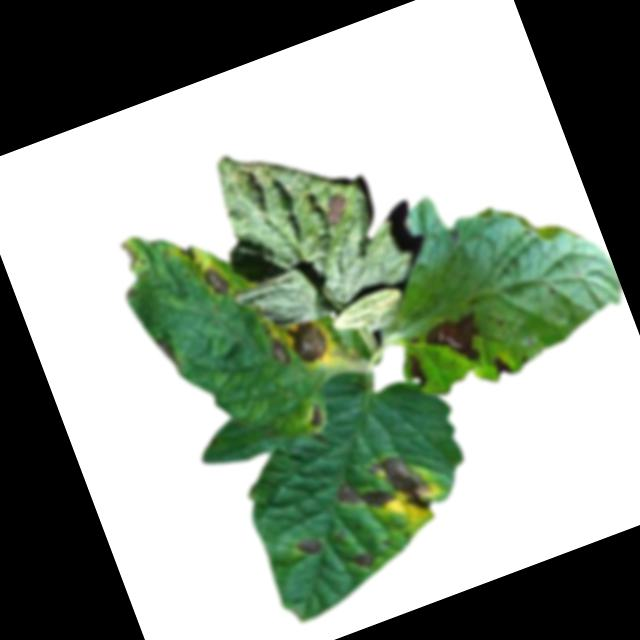Early_blight: (367, 444, 439, 526), (418, 306, 492, 378), (330, 469, 397, 523), (284, 316, 333, 370), (314, 189, 356, 232), (151, 330, 182, 374), (199, 262, 233, 302), (401, 351, 430, 395), (292, 531, 325, 561), (264, 339, 293, 372), (118, 238, 143, 274), (302, 399, 330, 430), (346, 549, 377, 575), (487, 351, 513, 381), (176, 243, 198, 266)
